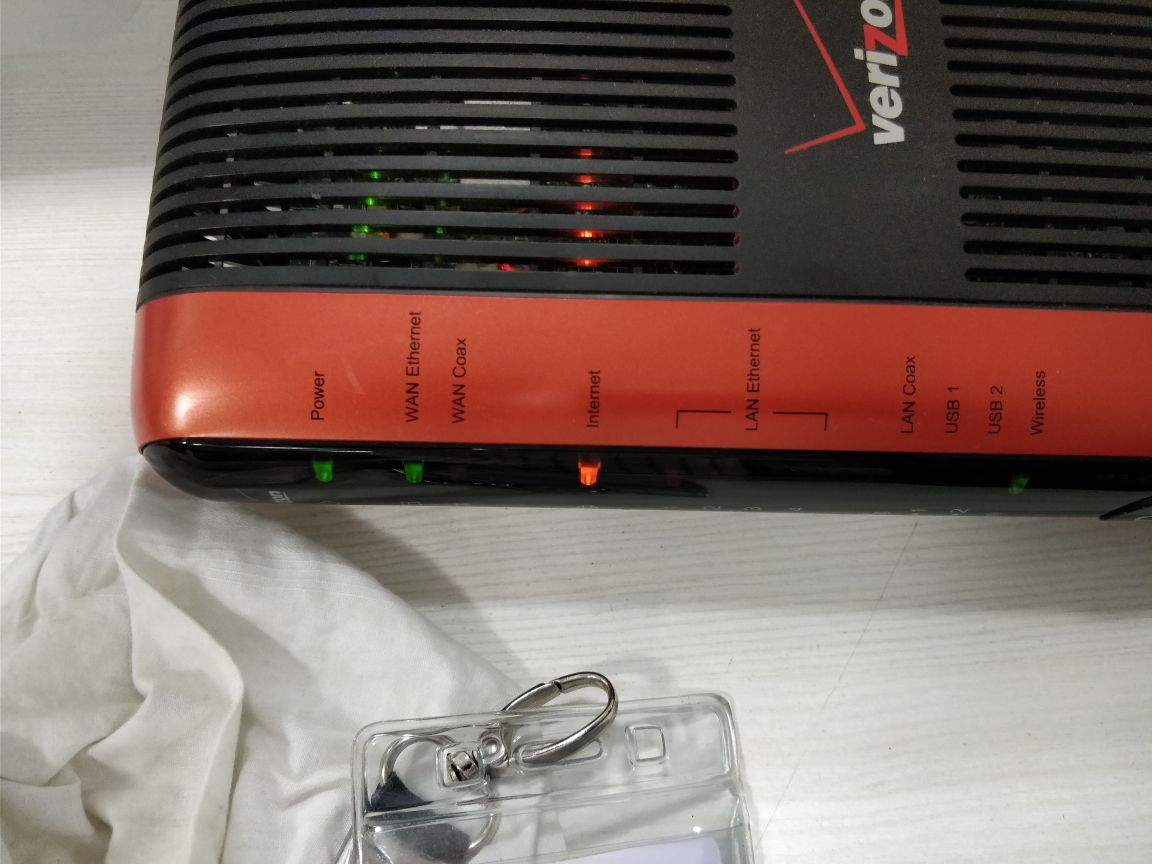Verizon Router: (101, 8, 1152, 550)
